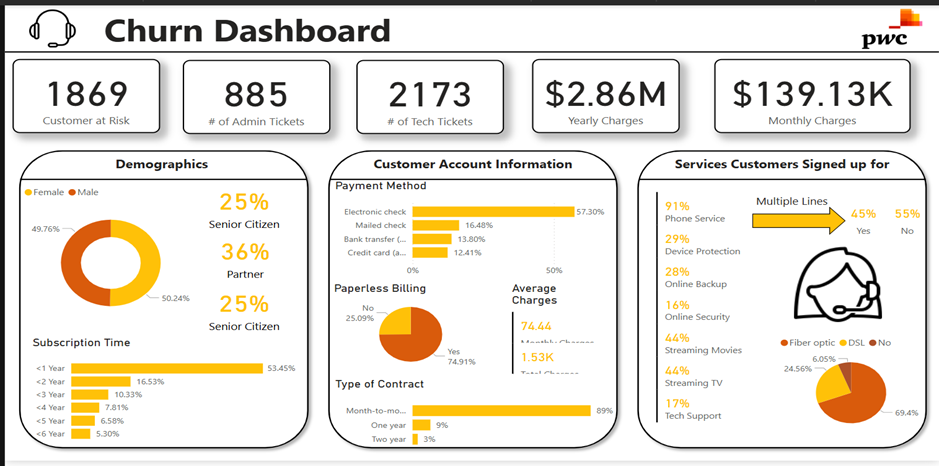

Layout of this report page (visuals, bound fields, positions):
{"tool":"powerbi","page":{"name":"Page 2","canvas":[1280,720],"ordinal":0},"visuals":[{"type":"card","fields":{"Values":["Count(01 Churn-Dataset.customerID)"]},"box":[10.4,84.7,202.2,117.4],"z":0},{"type":"card","fields":{"Values":["Sum(01 Churn-Dataset.numTechTickets)"]},"box":[481.6,86.2,202.2,117.4],"z":1000},{"type":"card","fields":{"Values":["calculations.monthlyChargesofChurn"]},"box":[972.1,84.7,269,117.4],"z":2000},{"type":"card","fields":{"Values":["Sum(01 Churn-Dataset.numAdminTickets)"]},"box":[243.8,86.2,202.2,117.4],"z":3000},{"type":"card","fields":{"Values":["calculations.totalChargesofChurn"]},"box":[722.4,84.7,202.2,117.4],"z":4000},{"type":"card","fields":{"Values":["calculations.seniorCitizenpercentage"]},"box":[96.6,247.7,115.9,83.2],"z":5000},{"type":"shape","box":[10.4,220,414.7,489],"z":6000},{"type":"shape","box":[434,220,414.7,489],"z":7000},{"type":"shape","box":[858,220,414.7,489],"z":8000},{"type":"shape","box":[0,52,1279.8,43.1],"z":9000},{"type":"card","fields":{"Values":["calculations.seniorCitizenpercentage"]},"box":[269,275,117.4,84.7],"z":10000},{"type":"donutChart","fields":{"Category":["01 Churn-Dataset.gender"],"Y":["CountNonNull(01 Churn-Dataset.customerID)"]},"box":[20.8,275,248.2,234.9],"z":11000},{"type":"shape","box":[20.8,260.1,392.4,29.7],"z":12000},{"type":"card","fields":{"Values":["calculations.seniorCitizenpercentage"]},"box":[269,435.5,117.4,86.2],"z":13000},{"type":"card","fields":{"Values":["calculations.Partnerpercentage"]},"box":[270.5,356.7,117.4,78.8],"z":14000},{"type":"barChart","title":"Payment Method","fields":{"Category":["01 Churn-Dataset.PaymentMethod"],"Y":["CountNonNull(01 Churn-Dataset.customerID)"]},"box":[447.4,275,390.9,162],"z":15000},{"type":"pieChart","title":"Paperless Billing","fields":{"Y":["CountNonNull(01 Churn-Dataset.customerID)"],"Category":["01 Churn-Dataset.PaperlessBilling"]},"box":[445.9,437,220,144.2],"z":16000},{"type":"cardVisual","title":"Average Charges","fields":{"Data":["Avg(01 Churn-Dataset.MonthlyCharges)","Avg(01 Churn-Dataset.TotalCharges)"]},"box":[689.7,437,148.6,151.6],"z":17000},{"type":"shape","box":[869.5,260.1,392.4,29.7],"z":18000},{"type":"shape","box":[445.9,260.1,392.4,29.7],"z":19000},{"type":"barChart","title":"Type of Contract","fields":{"Category":["01 Churn-Dataset.Contract"],"Y":["CountNonNull(01 Churn-Dataset.customerID)"]},"box":[447.4,588.6,390.9,120.4],"z":20000},{"type":"textbox","box":[60,231.9,310.7,43.1],"z":21000},{"type":"cardVisual","fields":{"Data":["calculations.PhoneServicepercentage","calculations.DeviceProtectionpercentage","calculations.OnlineBackuppercentage","calculations.OnlineSecuritypercentage","calculations.StreamingMoviespercentage","calculations.StreamingTVpercentage","calculations.TechSupportpercentage"]},"box":[887.4,289.8,144.2,377.5],"z":22000},{"type":"pieChart","fields":{"Category":["01 Churn-Dataset.InternetService"],"Y":["CountNonNull(01 Churn-Dataset.customerID)"]},"box":[1056.8,512.8,205.1,169.4],"z":23000},{"type":"cardVisual","fields":{"Data":["calculations.MultipleLinespercentage(yes)","calculations.MultipleLinespercentage(no)"]},"box":[1141.6,301.7,130.8,74.3],"z":24000},{"type":"image","box":[1076.2,370.1,130.8,139.7],"z":25000},{"type":"textbox","box":[906.7,231.9,316.6,43.1],"z":26000},{"type":"textbox","box":[481.6,231.9,319.6,43.1],"z":27000},{"type":"textbox","box":[130.8,0,447.4,74.3],"z":28000},{"type":"image","box":[0,0,130.8,74.3],"z":29000},{"type":"image","box":[1152,0,127.8,74.3],"z":30000},{"type":"barChart","title":"Subscription Time","fields":{"Category":["01 Churn-Dataset.TenureYear"],"Y":["CountNonNull(01 Churn-Dataset.customerID)"]},"box":[32.7,523.2,370.1,175.4],"z":31000},{"type":"shape","box":[1024.1,318.1,127.8,44.6],"z":32000},{"type":"textbox","box":[1024.1,292.8,127.8,38.6],"z":33000}]}

Visuals, with their boxes on the page's 1280x720 design canvas (x1, y1, x2, y2). These are canvas units, not pixel positions in the 939x466 screenshot, which may show the page scaled, cropped or inside an application window:
card - Count(01 Churn-Dataset.customerID): bbox=[10, 85, 213, 202]
card - Sum(01 Churn-Dataset.numTechTickets): bbox=[482, 86, 684, 204]
card - calculations.monthlyChargesofChurn: bbox=[972, 85, 1241, 202]
card - Sum(01 Churn-Dataset.numAdminTickets): bbox=[244, 86, 446, 204]
card - calculations.totalChargesofChurn: bbox=[722, 85, 925, 202]
card - calculations.seniorCitizenpercentage: bbox=[97, 248, 212, 331]
shape: bbox=[10, 220, 425, 709]
shape: bbox=[434, 220, 849, 709]
shape: bbox=[858, 220, 1273, 709]
shape: bbox=[0, 52, 1280, 95]
card - calculations.seniorCitizenpercentage: bbox=[269, 275, 386, 360]
donutChart - 01 Churn-Dataset.gender x CountNonNull(01 Churn-Dataset.customerID): bbox=[21, 275, 269, 510]
shape: bbox=[21, 260, 413, 290]
card - calculations.seniorCitizenpercentage: bbox=[269, 436, 386, 522]
card - calculations.Partnerpercentage: bbox=[270, 357, 388, 436]
"Payment Method" barChart: bbox=[447, 275, 838, 437]
"Paperless Billing" pieChart: bbox=[446, 437, 666, 581]
"Average Charges" cardVisual: bbox=[690, 437, 838, 589]
shape: bbox=[870, 260, 1262, 290]
shape: bbox=[446, 260, 838, 290]
"Type of Contract" barChart: bbox=[447, 589, 838, 709]
textbox: bbox=[60, 232, 371, 275]
cardVisual - calculations.PhoneServicepercentage x calculations.DeviceProtectionpercentage: bbox=[887, 290, 1032, 667]
pieChart - 01 Churn-Dataset.InternetService x CountNonNull(01 Churn-Dataset.customerID): bbox=[1057, 513, 1262, 682]
cardVisual - calculations.MultipleLinespercentage(yes) x calculations.MultipleLinespercentage(no): bbox=[1142, 302, 1272, 376]
image: bbox=[1076, 370, 1207, 510]
textbox: bbox=[907, 232, 1223, 275]
textbox: bbox=[482, 232, 801, 275]
textbox: bbox=[131, 0, 578, 74]
image: bbox=[0, 0, 131, 74]
image: bbox=[1152, 0, 1280, 74]
"Subscription Time" barChart: bbox=[33, 523, 403, 699]
shape: bbox=[1024, 318, 1152, 363]
textbox: bbox=[1024, 293, 1152, 331]
